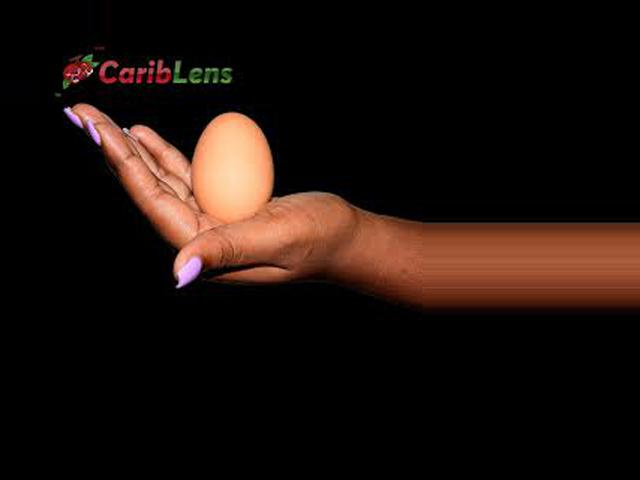egg: (190, 111, 274, 221)
